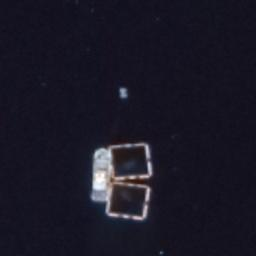square_solid: (101, 178, 153, 224), (106, 139, 155, 185)
